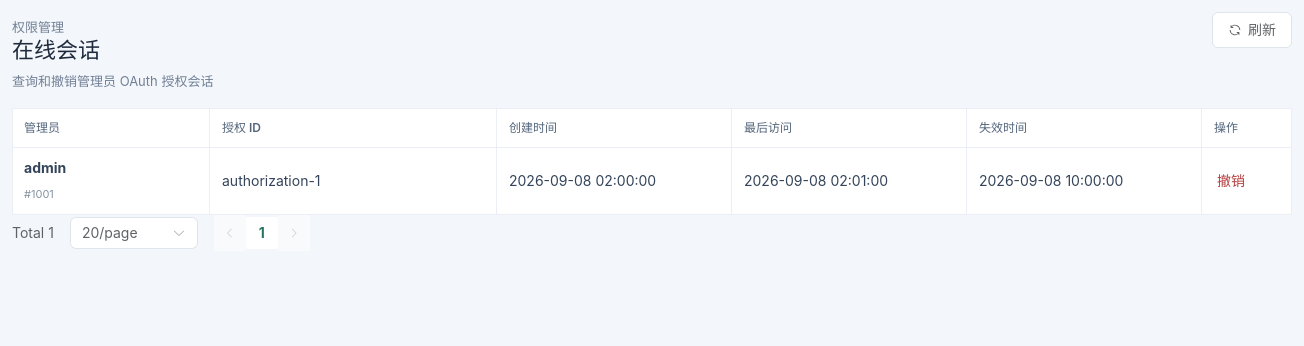
OAuth session workspace › preserves prior sessions when refresh fails
The width and height of the screenshot is (1304, 346).
Step 1. Click the button with test id "refresh-sessions" → (1252, 30), box top-left (1212, 12), bottom-right (1292, 48)
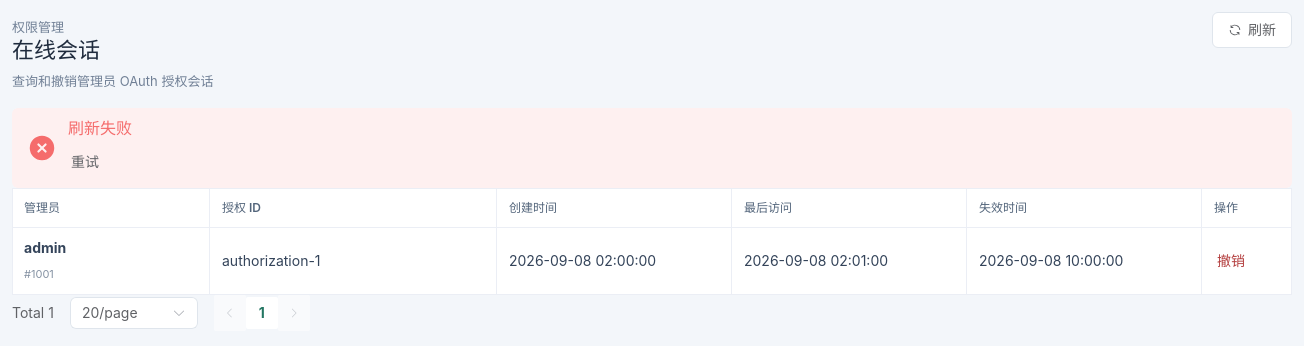
Check: the text "authorization-1" is shown, box top-left (222, 252), bottom-right (321, 269)
Check: the text "刷新失败" is shown, box top-left (68, 116), bottom-right (132, 140)
